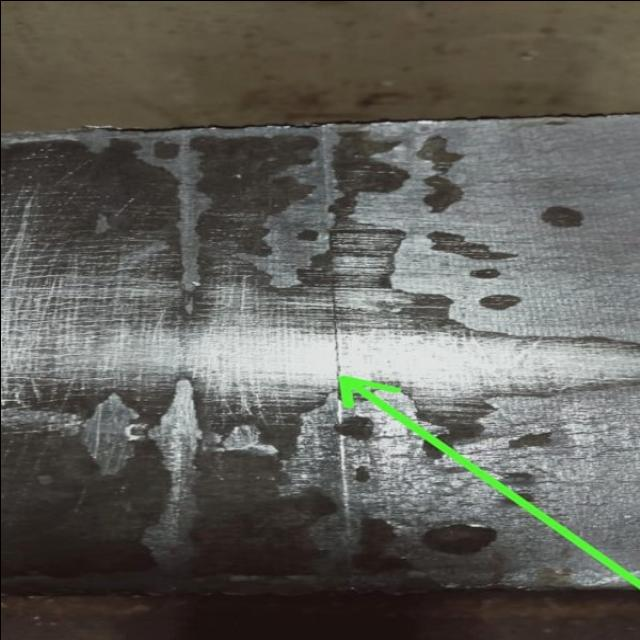defect: (309, 121, 368, 592)
